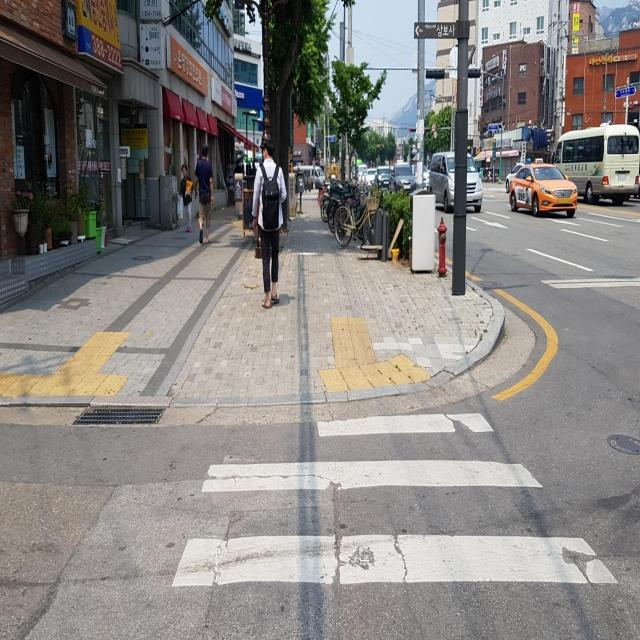횡단보도: (164, 407, 620, 592)
